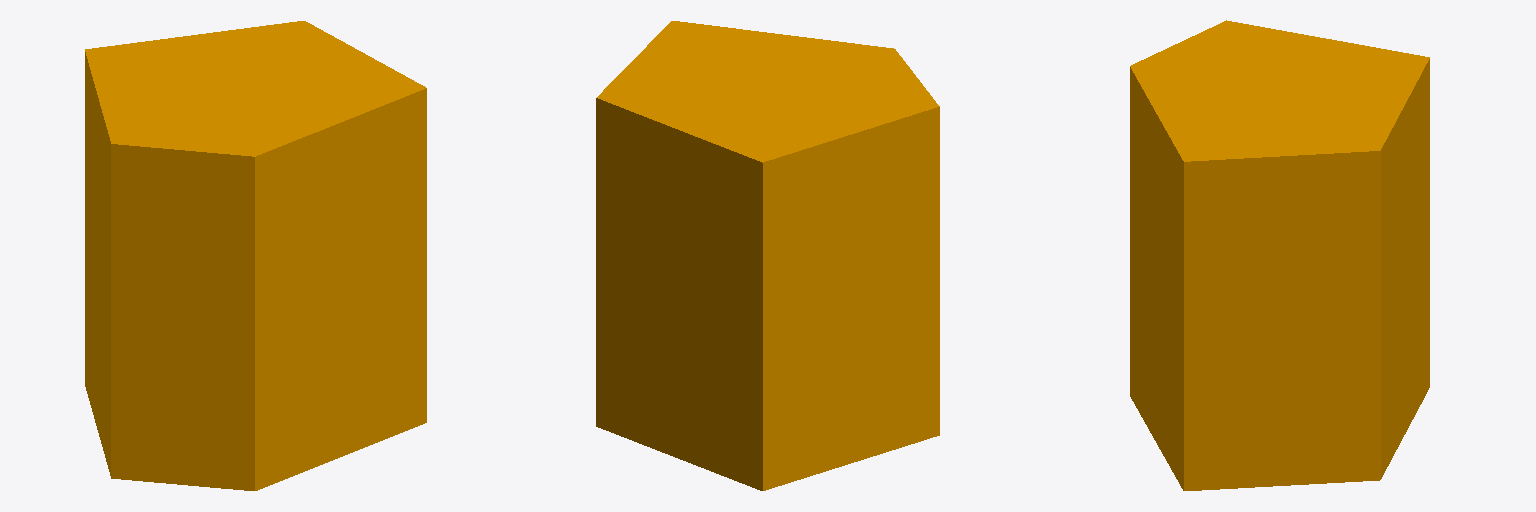
The robot description file, URDF, robot "object":
<?xml version="1.0"?>
<robot name="object">
  <link name="object">
    <visual>
      <origin xyz="0 0 0"/>
      <geometry>
        <mesh filename="meshes/generated/col_006.obj" scale="0.03 0.03 0.03"/>
      </geometry>
    </visual>
    <collision>
      <origin xyz="0 0 0"/>
      <geometry>
        <mesh filename="meshes/generated/col_006.obj" scale="0.03 0.03 0.03"/>
      </geometry>
    </collision>
    <inertial>
      <density value="1000.0"/>
    </inertial>
  </link>
</robot>

--- What the picture shows (computed from the rendered views, not written in the file) ---
3 views of the same robot in one strip: view 1: azimuth 30°, elevation 25°; view 2: azimuth 150°, elevation 25°; view 3: azimuth 270°, elevation 25° (orthographic).
Model object with 1 links and 0 joints (none), rooted at object, posed all joints at 0.
Visible links, largest first — view 1: object; view 2: object; view 3: object.
Boxes of the visible links, x1=… form: object: x1=85, y1=21, x2=426, y2=490; object: x1=596, y1=21, x2=939, y2=490; object: x1=1130, y1=20, x2=1429, y2=490.
Size in the robot's own frame: 0.0552 by 0.0496 by 0.06 metres.
Meshes: 1 distinct files referenced, 1 mesh visuals loaded (1 OBJ).
